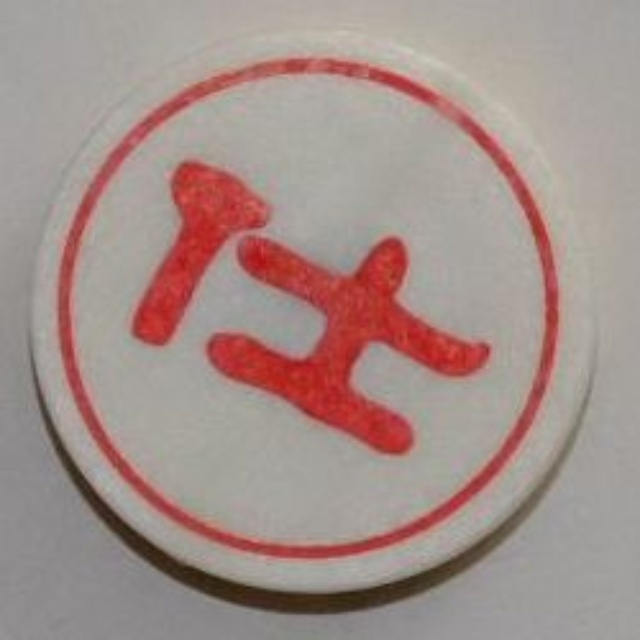red_si: (24, 20, 616, 603)
